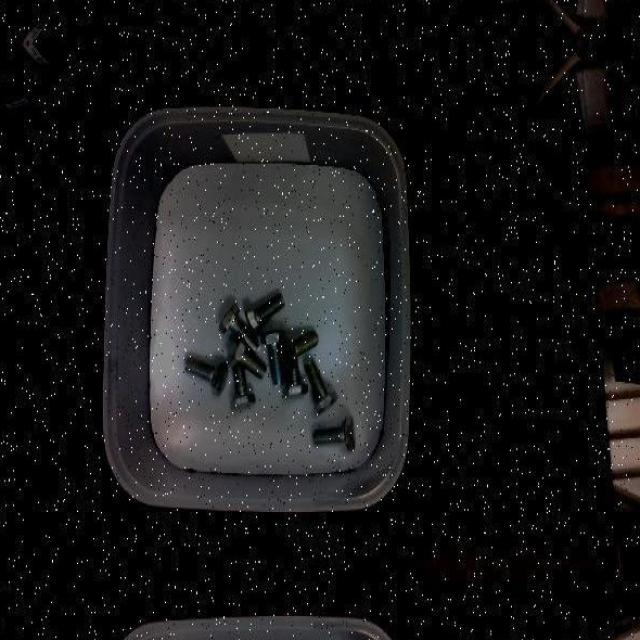screw: (305, 359, 338, 414), (245, 293, 285, 338), (185, 356, 229, 396), (227, 336, 267, 380), (278, 330, 319, 370), (313, 414, 356, 451)
